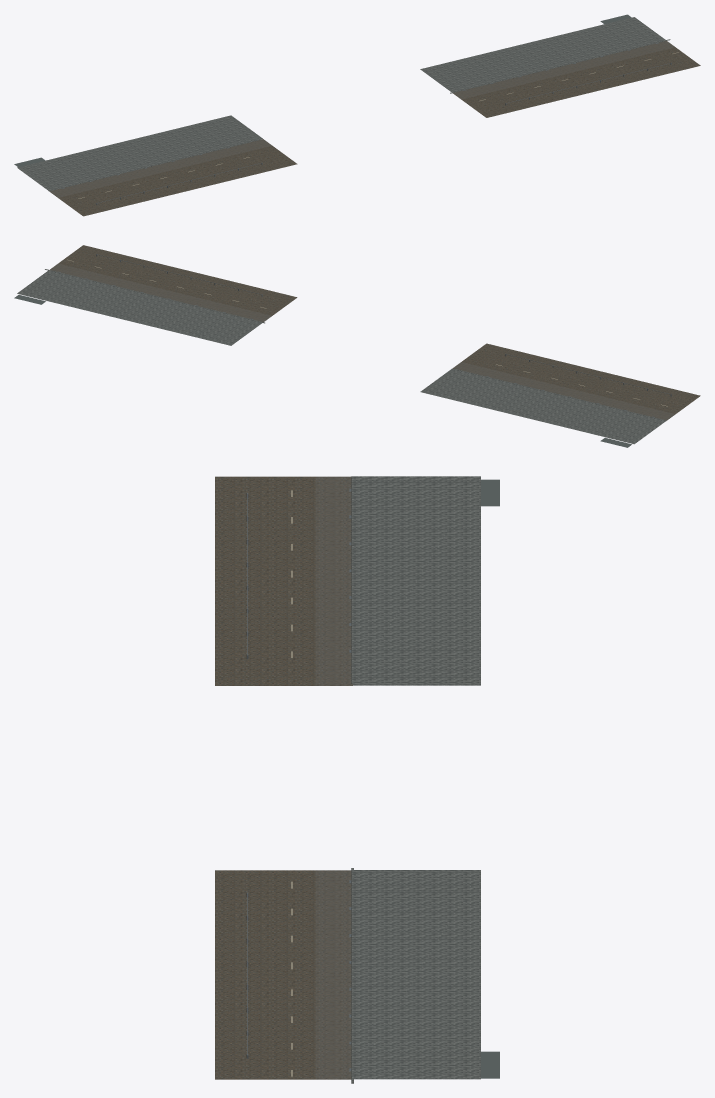
Rendered from quay-ground.glb.
3 views of the same model, one above another, from view 1: azimuth 30°, elevation 25°; view 2: azimuth 150°, elevation 25°; view 3: azimuth 270°, elevation 25° (orthographic). The views are drawn at different scales.
Visible parts, largest first — view 1: quay-ground; view 2: quay-ground; view 3: quay-ground.
Part boxes in pixels (x1,y1,x2,y2): quay-ground: (14,14,700,216); quay-ground: (14,245,700,447); quay-ground: (215,476,499,1083).
Size of the model in its own units: 158 by 0.63 by 31.4.
6 materials, 3 textured.
